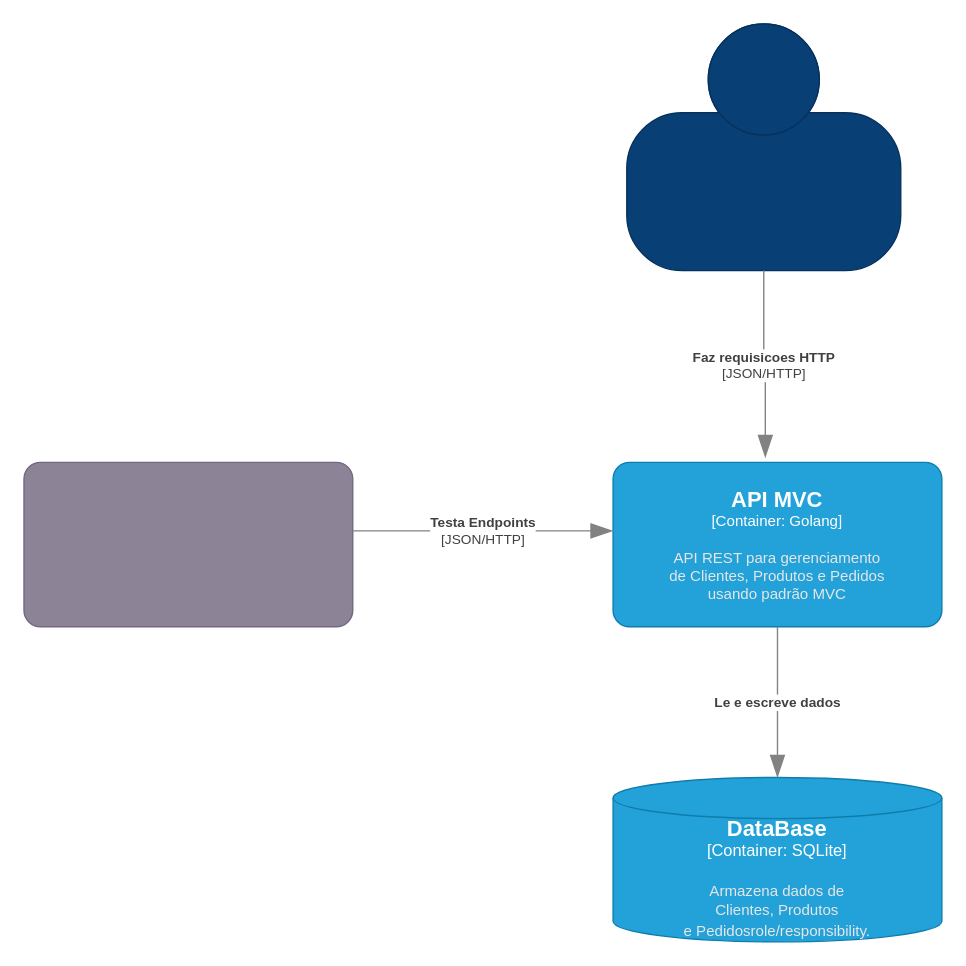
This 966x966 diagram has some shape labels left out. Each missing label, with the centre of its shape:
"Postman/cURL [Software System] Ferramenta de testes de api" belongs at [188,544].
"Usuario [Person] usuario que ira consumir a api" belongs at [763,147].
